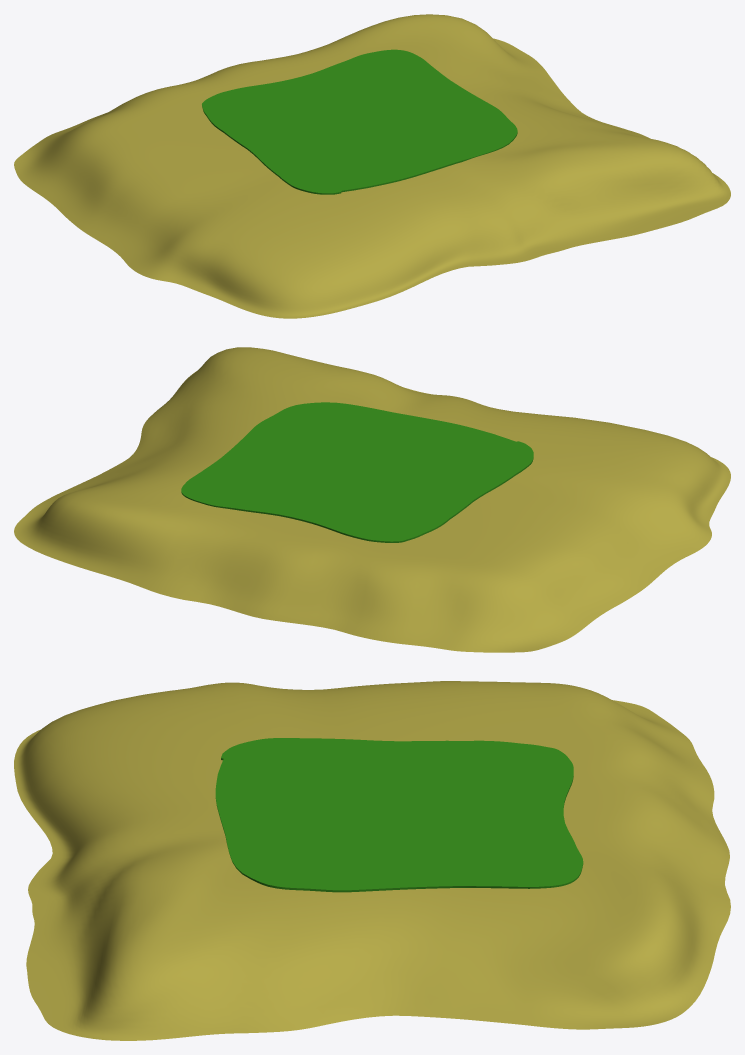
The model's file is ilha quadrada.fbx.
The picture shows the model from 3 angles, top to bottom: view 1: azimuth 30°, elevation 25°; view 2: azimuth 150°, elevation 25°; view 3: azimuth 270°, elevation 25°; orthographic projection. The views are drawn at different scales.
Parts seen in each view (by area): view 1: areia.002, quadrada; view 2: areia.002, quadrada; view 3: areia.002, quadrada.
Boxes of the visible parts, box(x1,y1,x2,y2) form: areia.002: box(14, 14, 730, 318); quadrada: box(202, 49, 517, 194); areia.002: box(14, 347, 730, 652); quadrada: box(181, 402, 533, 542); areia.002: box(14, 681, 730, 1040); quadrada: box(215, 738, 583, 892).
Size of the model in its own units: 2746 by 228 by 2382.
